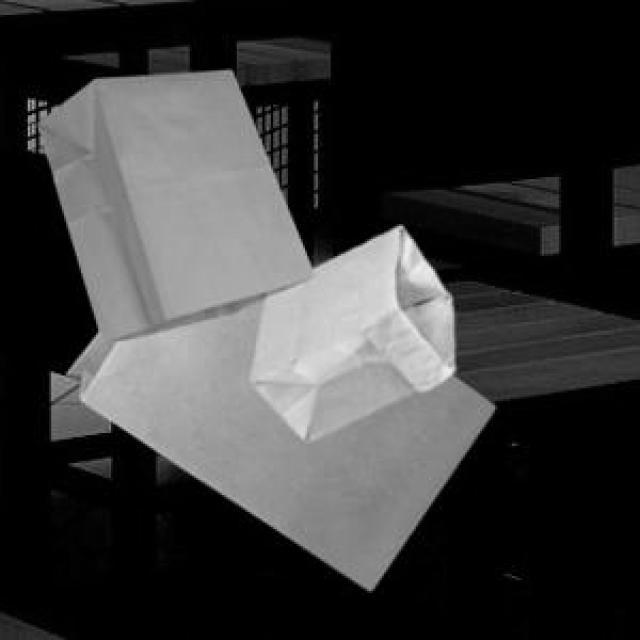paper: (64, 294, 491, 587), (34, 66, 309, 339), (248, 222, 450, 437)
